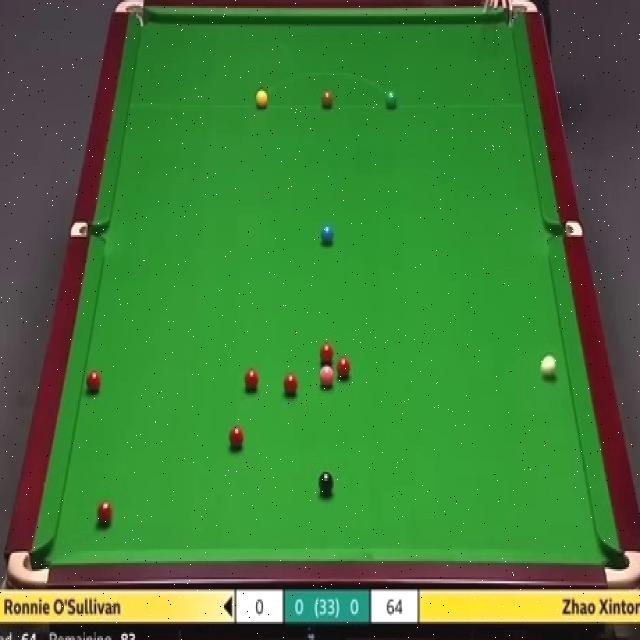black-ball: (319, 471, 335, 494)
blue-ball: (320, 223, 334, 245)
brown-ball: (320, 90, 334, 109)
green-ball: (384, 89, 398, 111)
pink-ball: (318, 365, 336, 390)
red-ball: (94, 501, 114, 526), (282, 372, 299, 397), (228, 425, 245, 449), (86, 371, 103, 393), (244, 368, 259, 392), (336, 357, 351, 380), (320, 342, 334, 364)
white-ball: (540, 353, 558, 378)
yellow-ball: (254, 87, 268, 109)
